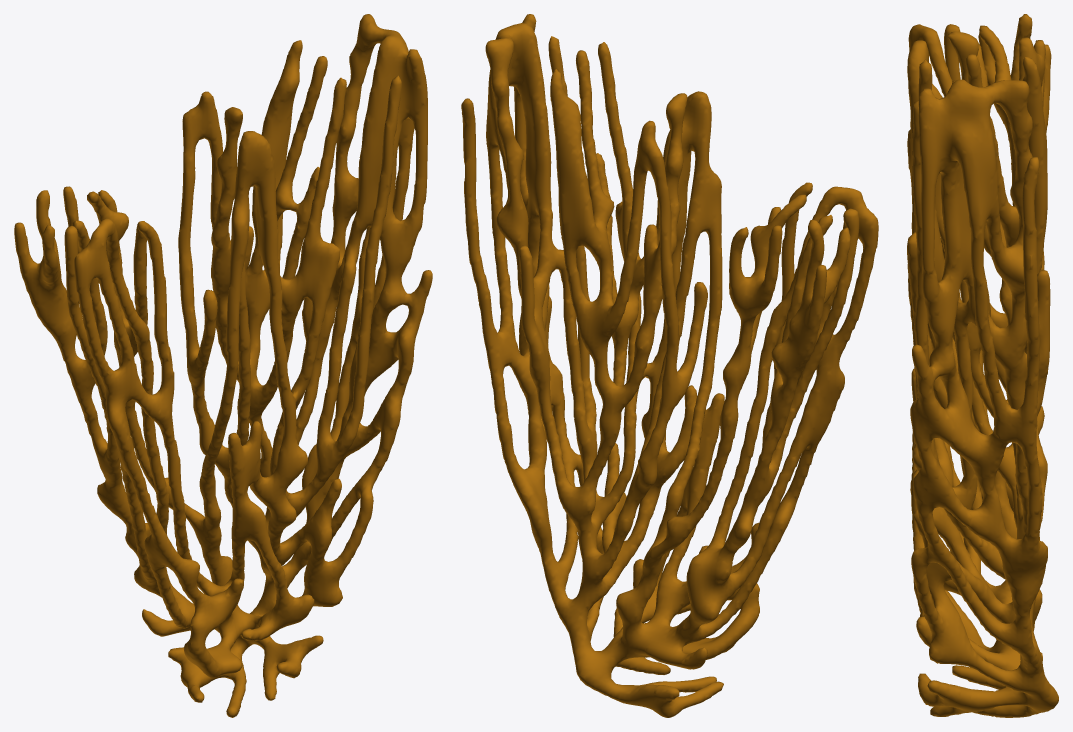
File: reed_coral.glb
3 views of the same model, side by side, from view 1: azimuth 30°, elevation 25°; view 2: azimuth 150°, elevation 25°; view 3: azimuth 270°, elevation 25° (orthographic). The views are drawn at different scales.
Parts seen in each view (by area): view 1: tyMesher001; view 2: tyMesher001; view 3: tyMesher001.
Boxes of the visible parts, <box> form: tyMesher001: <box>14,14,432,717</box>; tyMesher001: <box>461,14,878,717</box>; tyMesher001: <box>907,14,1058,717</box>.
Bounding box in the file's own units: 1.74 × 2.85 × 0.5475.
